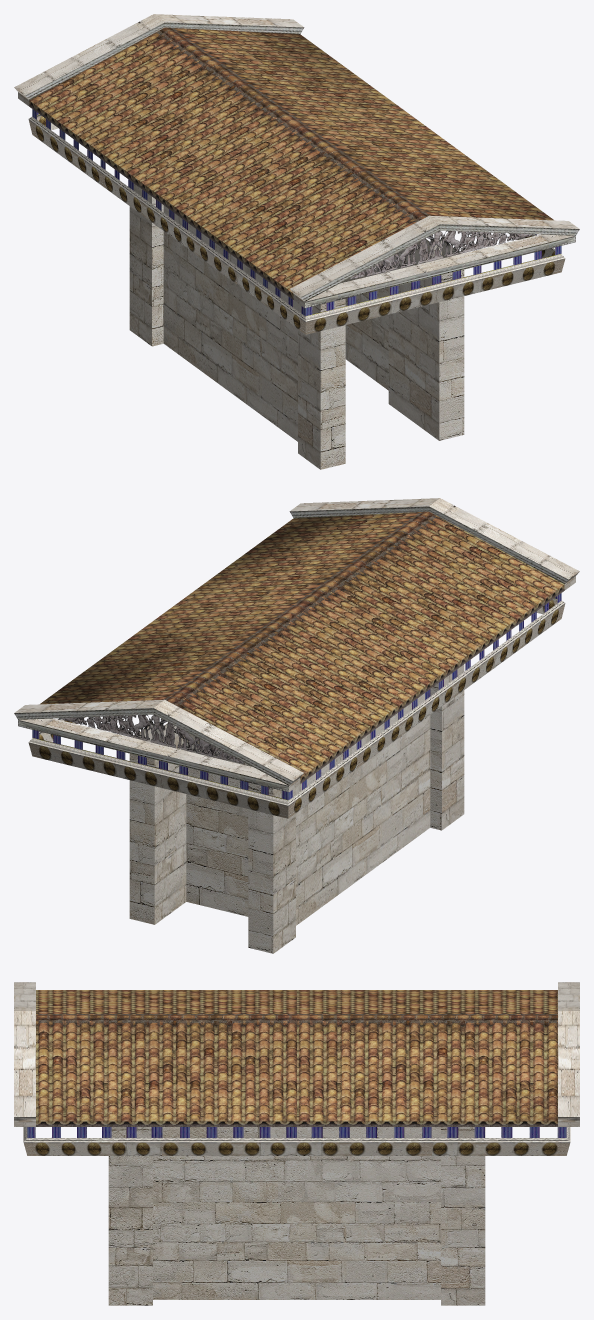
File: hele_temple_a_struct.dae
3 renders of one model, top to bottom at view 1: azimuth 30°, elevation 25°; view 2: azimuth 150°, elevation 25°; view 3: azimuth 270°, elevation 25°, orthographic.
Parts seen in each view (by area): view 1: Object01; view 2: Object01; view 3: Object01.
Part boxes in pixels (x1,y1,x2,y2): Object01: (14, 14, 579, 469); Object01: (14, 498, 579, 953); Object01: (14, 982, 579, 1305).
Size of the model in its own units: 15.39 by 27.36 by 13.87.
